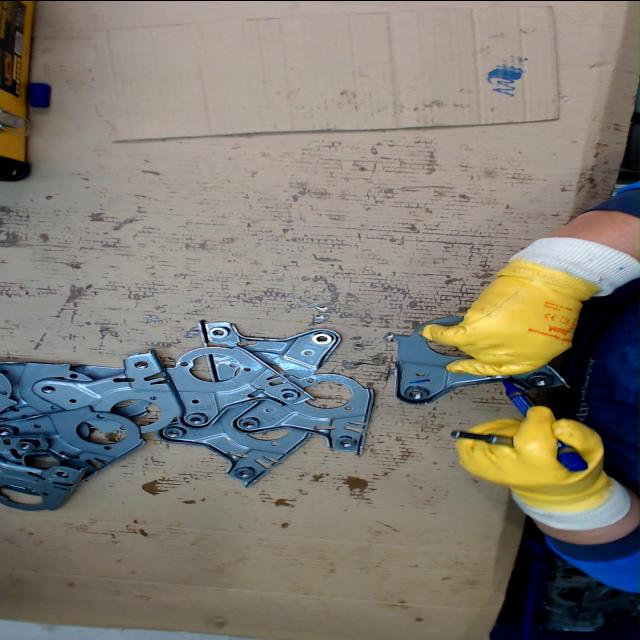hands: (420, 264, 584, 378), (456, 403, 606, 507)
